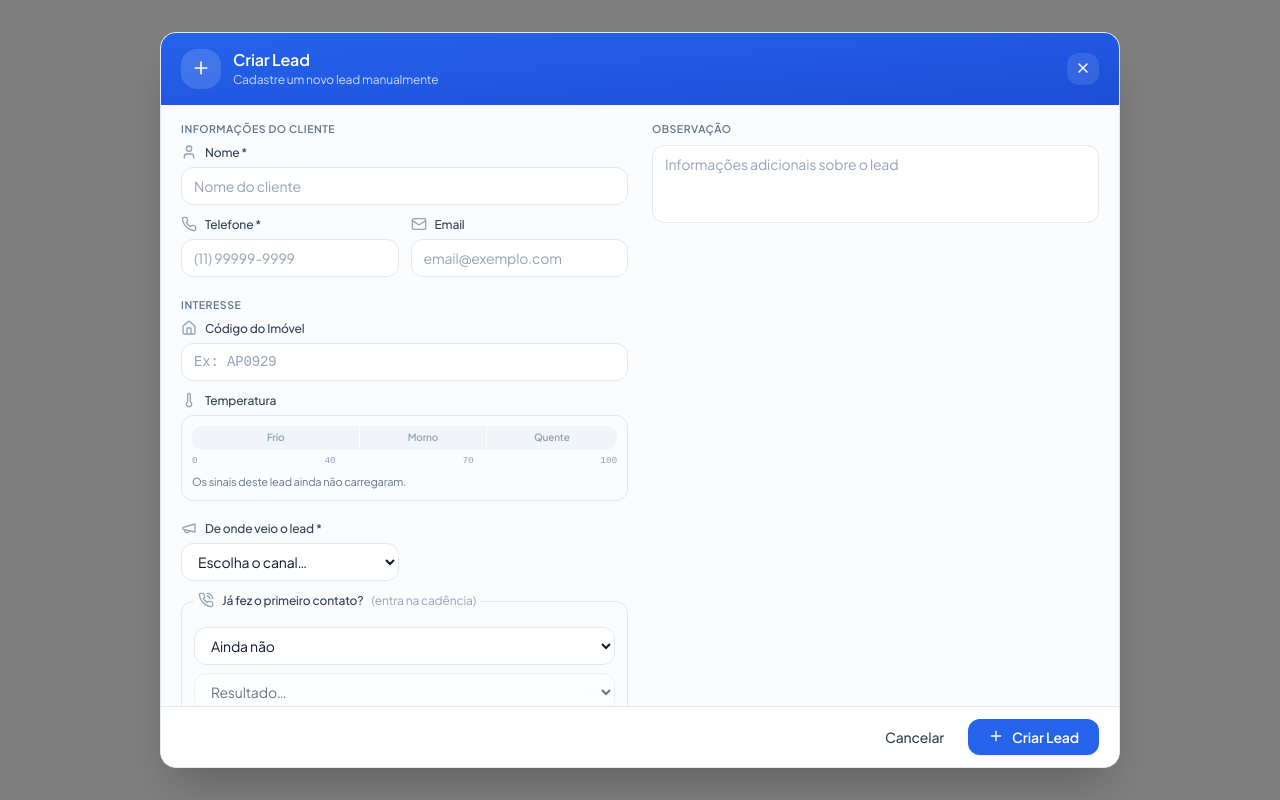
Test case: Duplicidade de telefone ao criar lead › corretor NÃO vê o nome nem o dono da ficha de um colega
The width and height of the screenshot is (1280, 800).
Type "Maria" into the field with placeholder "Nome do cliente". click: [404, 186]
box: [181, 167, 628, 205]
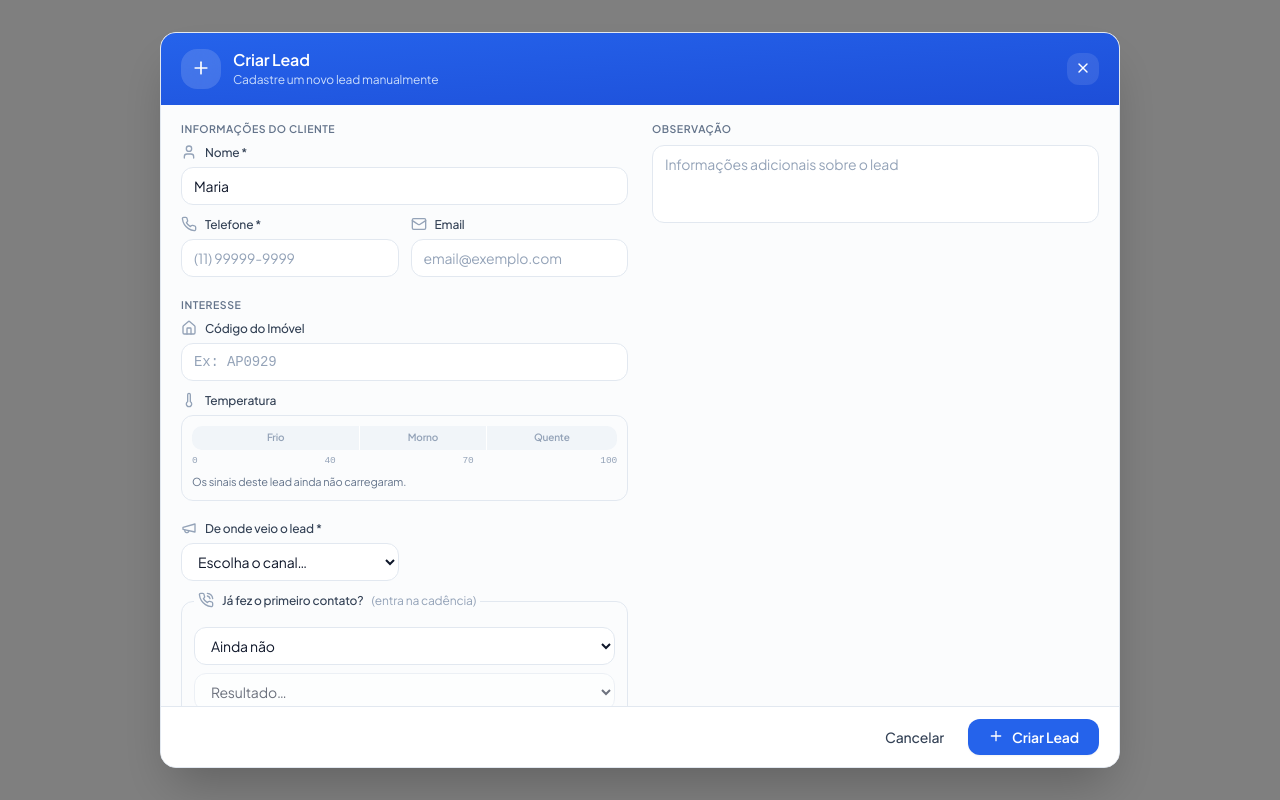
Type "19999999999" into the field with placeholder "(11) 99999-9999". click: [290, 258]
box: [181, 239, 398, 277]
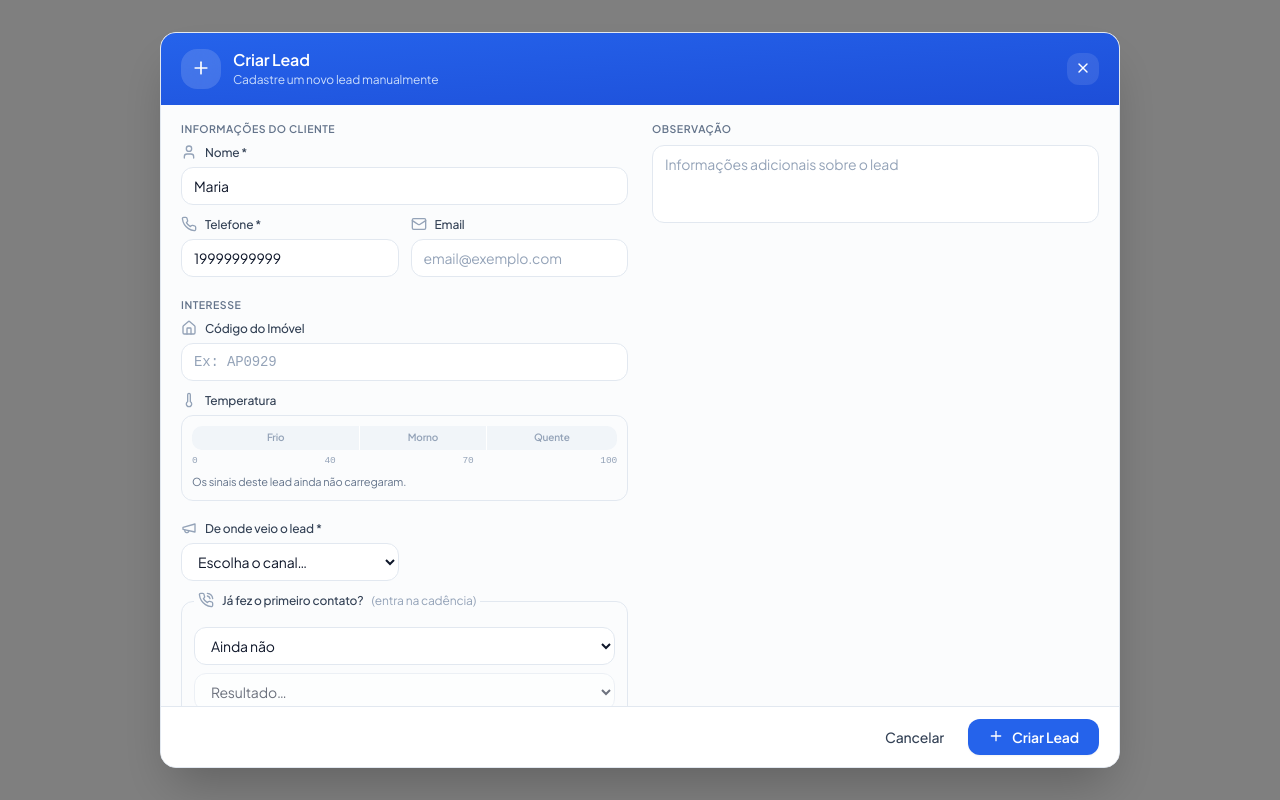
Select "Plantão" in the dropdown labelled "De onde veio o lead *". click: [290, 562]
box: [181, 543, 398, 581]
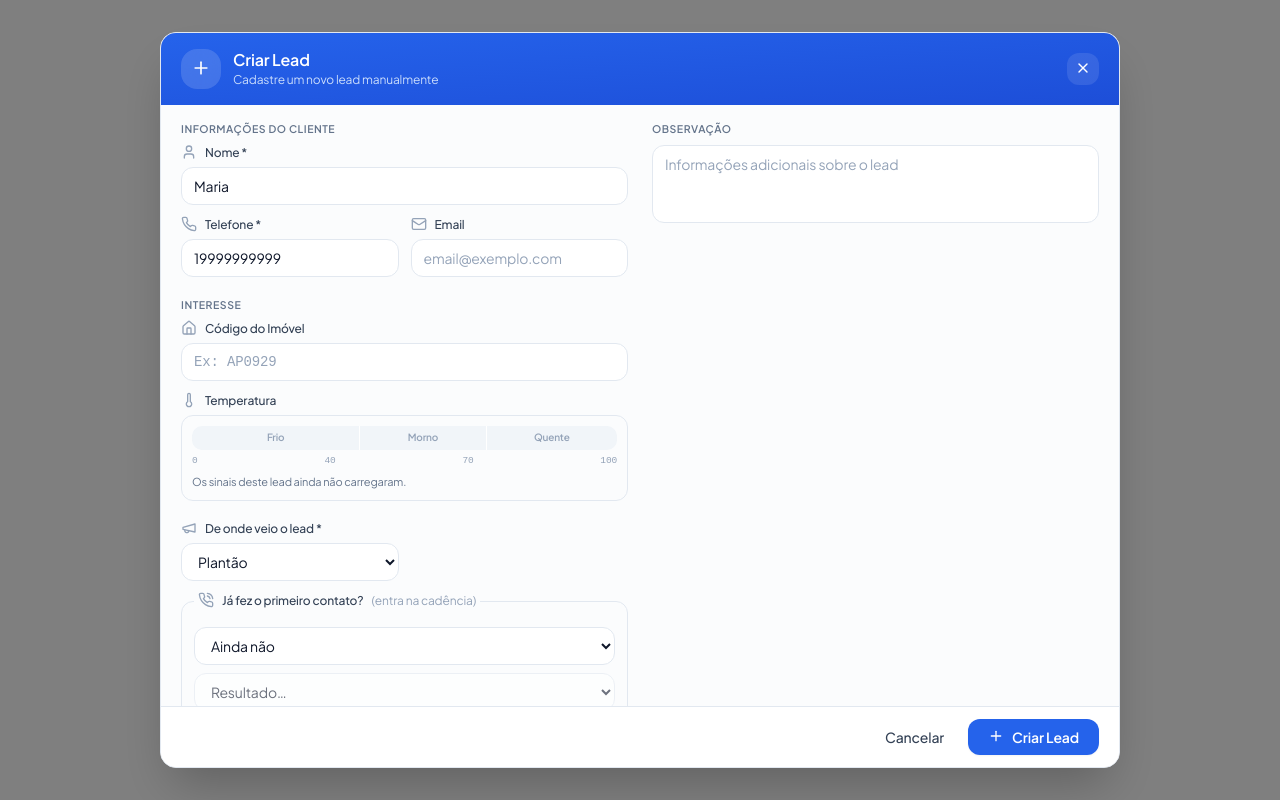
Click the button "Criar Lead". click: [1034, 737]
box: [968, 719, 1099, 755]
(page scrolled)
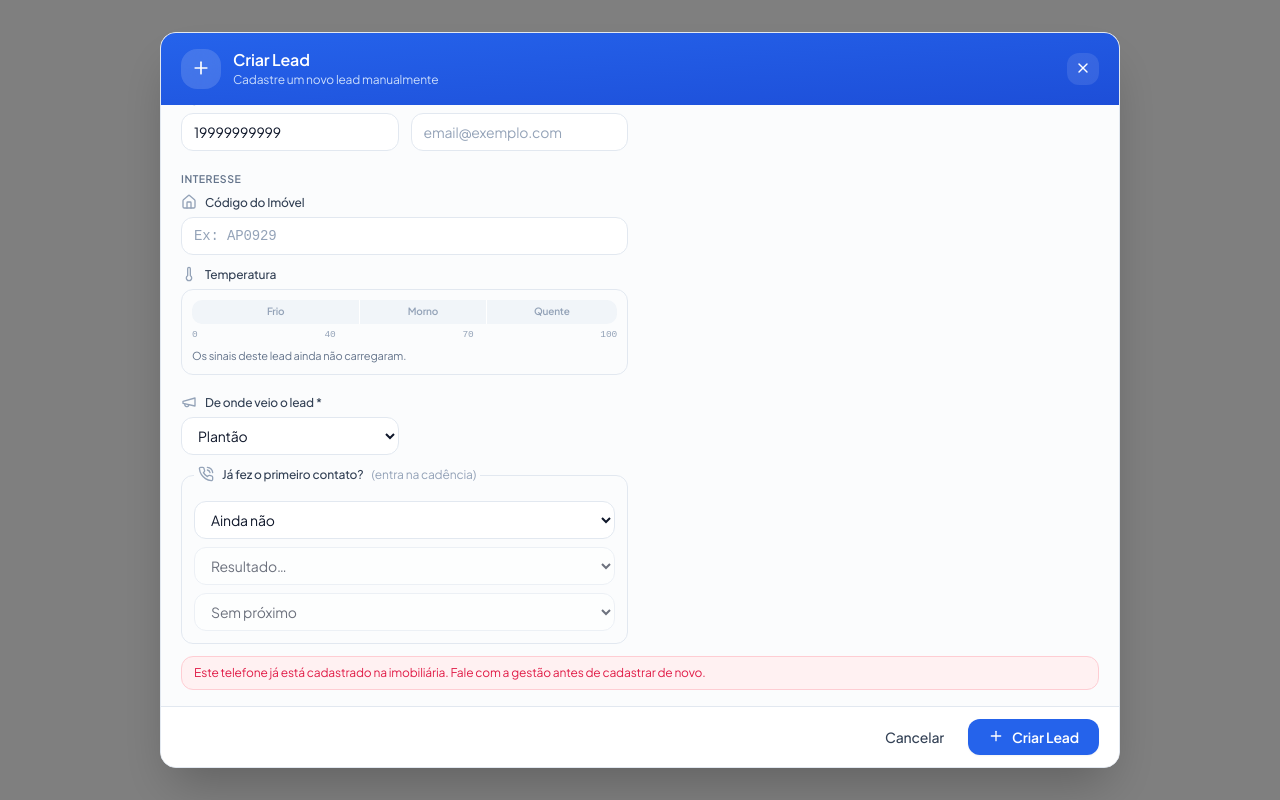
Expected: the text "já está cadastrado na imobiliária" is shown, [194, 665, 706, 680]
